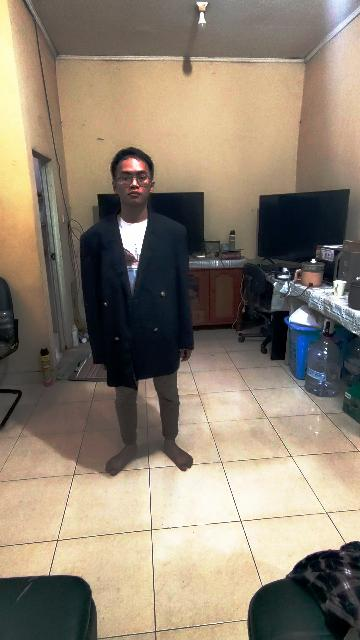berdiri: (76, 148, 198, 474)
